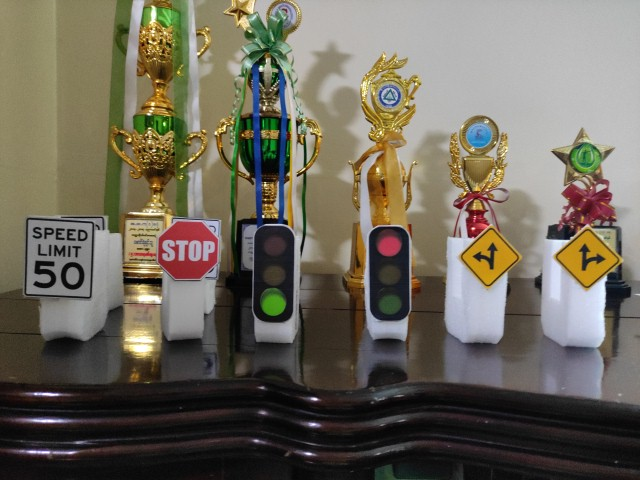Green Traffic Light: (253, 224, 295, 322)
Red Traffic Light: (368, 225, 411, 321)
Speed Limit 50: (24, 216, 94, 298)
Stop Sign: (157, 220, 221, 280)
Straight Or Left Sign: (458, 223, 522, 289)
Straight Or Right Sign: (554, 224, 622, 290)
